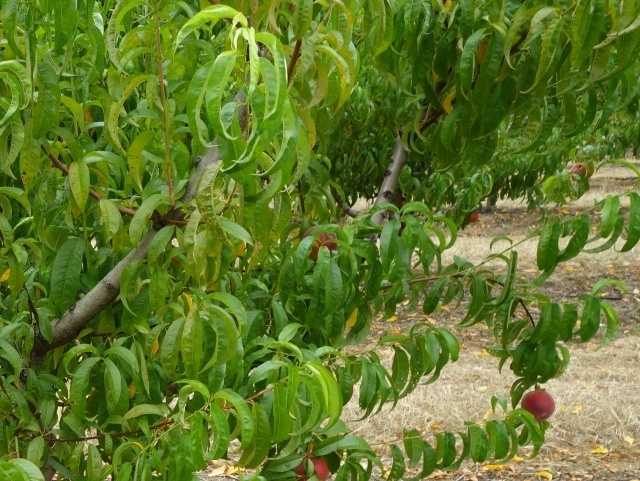peach: (518, 385, 559, 425), (300, 220, 339, 261), (293, 454, 332, 481)
